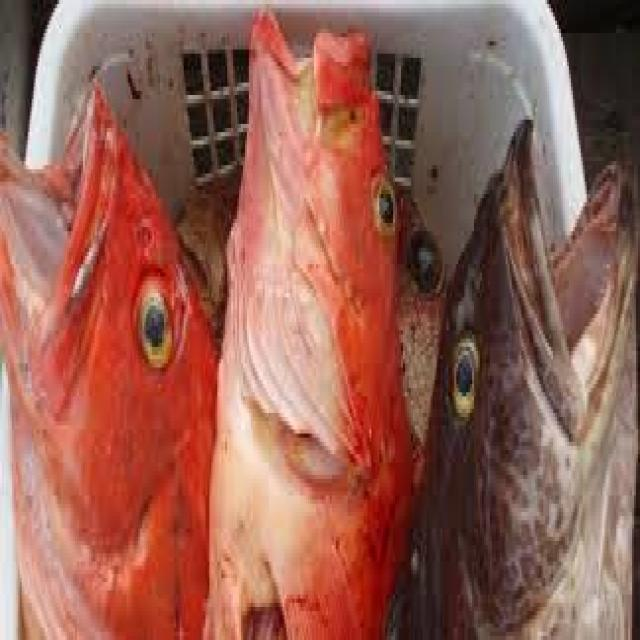northern-red-snapper: (0, 25, 212, 640), (426, 41, 640, 639), (216, 22, 418, 640)
